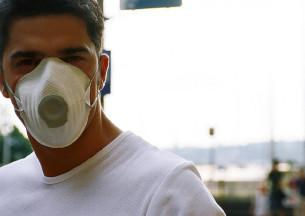OK: (6, 45, 107, 146)
